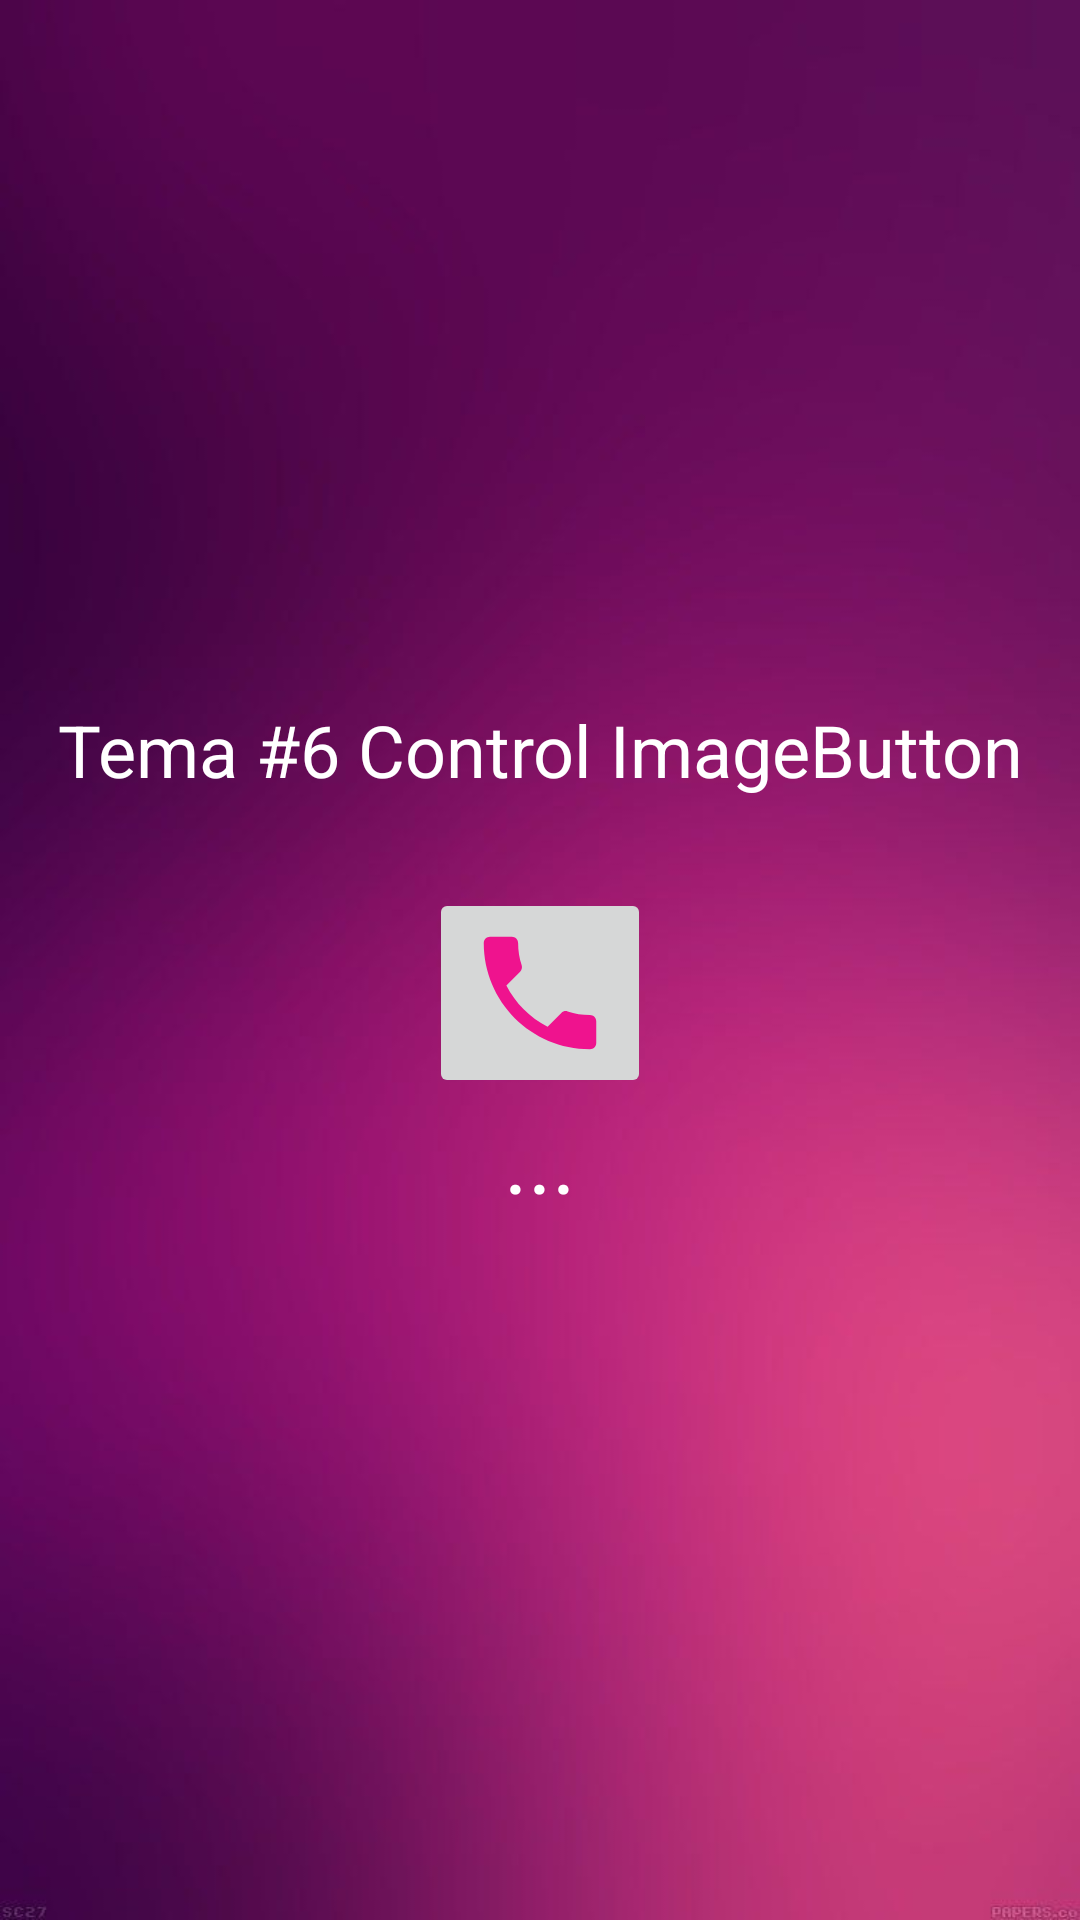

Locate icon controls on the screen. Image size 1080w x 1920h, boxes as (x1, y1, x2, y2).
phone: (441, 906, 639, 1080)
